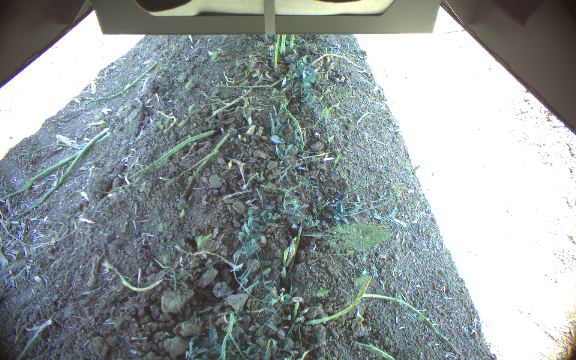aspa: (303, 274, 373, 327), (275, 34, 281, 68), (280, 34, 286, 54), (289, 33, 295, 50)
